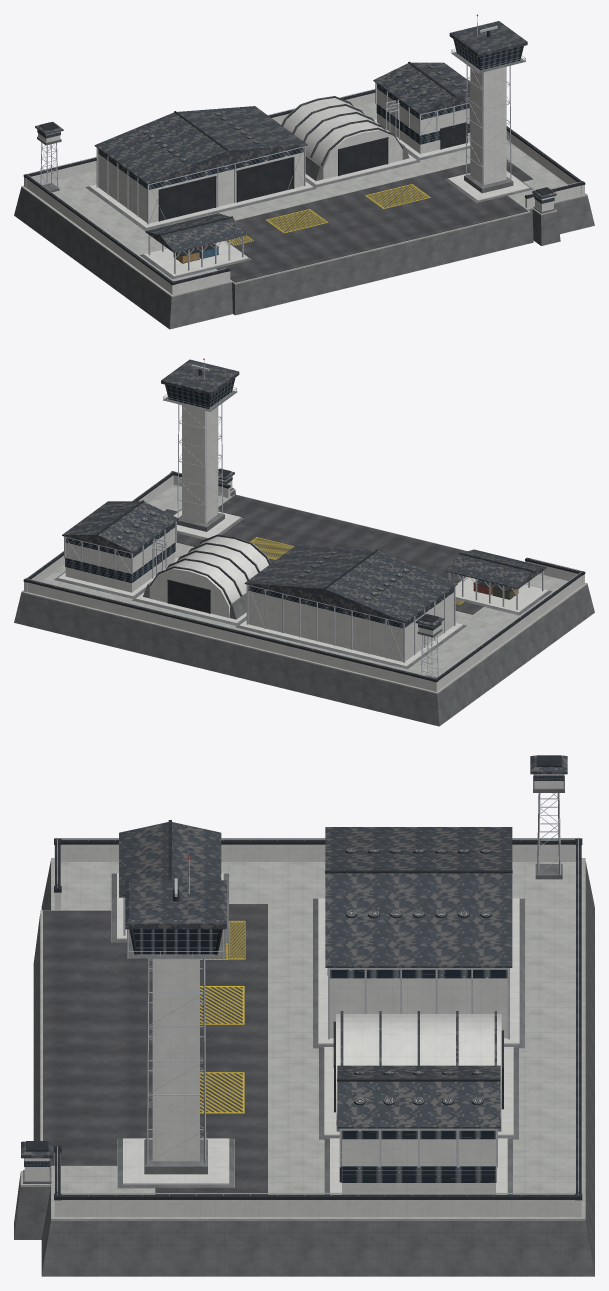
File: pilot_academy_lvl3.glb
3 renders of one model, top to bottom at view 1: azimuth 30°, elevation 25°; view 2: azimuth 150°, elevation 25°; view 3: azimuth 270°, elevation 25°, orthographic. The views are drawn at different scales.
Visible parts, largest first — view 1: PAC_L3_ConcLight, PAC_L3_ConcDark, PAC_L3_RoofCorr, PAC_L3_Asphalt, PAC_L3_ConcMid, PAC_L3_DoorCorr, PAC_L3_SteelTruss, PAC_L3_SteelDark, PAC_L3_WindowDark, PAC_L3_HatchZone, PAC_L3_RoofVent; view 2: PAC_L3_ConcLight, PAC_L3_ConcDark, PAC_L3_RoofCorr, PAC_L3_ConcMid, PAC_L3_Asphalt, PAC_L3_SteelTruss, PAC_L3_SteelDark, PAC_L3_WindowDark, PAC_L3_DoorCorr, PAC_L3_HatchZone; view 3: PAC_L3_ConcLight, PAC_L3_RoofCorr, PAC_L3_ConcMid, PAC_L3_ConcDark, PAC_L3_Asphalt, PAC_L3_SteelDark, PAC_L3_WindowDark, PAC_L3_SteelTruss, PAC_L3_HatchZone, PAC_L3_RoofVent.
Boxes of the visible parts, left/top/right/bottom form: PAC_L3_ConcLight: left=24, top=66, right=584, bottom=294; PAC_L3_ConcDark: left=14, top=52, right=594, bottom=329; PAC_L3_RoofCorr: left=35, top=21, right=556, bottom=252; PAC_L3_Asphalt: left=216, top=159, right=532, bottom=282; PAC_L3_ConcMid: left=21, top=102, right=587, bottom=297; PAC_L3_DoorCorr: left=160, top=124, right=465, bottom=220; PAC_L3_SteelTruss: left=26, top=16, right=582, bottom=281; PAC_L3_SteelDark: left=23, top=30, right=585, bottom=285; PAC_L3_WindowDark: left=37, top=40, right=554, bottom=203; PAC_L3_HatchZone: left=226, top=183, right=431, bottom=245; PAC_L3_RoofVent: left=143, top=65, right=466, bottom=160; PAC_L3_ConcLight: left=24, top=405, right=584, bottom=691; PAC_L3_ConcDark: left=14, top=390, right=594, bottom=726; PAC_L3_RoofCorr: left=62, top=359, right=546, bottom=627; PAC_L3_ConcMid: left=21, top=485, right=587, bottom=694; PAC_L3_Asphalt: left=164, top=494, right=483, bottom=614; PAC_L3_SteelTruss: left=26, top=360, right=582, bottom=678; PAC_L3_SteelDark: left=23, top=369, right=585, bottom=682; PAC_L3_WindowDark: left=65, top=379, right=453, bottom=630; PAC_L3_DoorCorr: left=169, top=582, right=208, bottom=613; PAC_L3_HatchZone: left=249, top=536, right=464, bottom=605; PAC_L3_ConcLight: left=24, top=774, right=581, bottom=1217; PAC_L3_RoofCorr: left=21, top=755, right=567, bottom=1158; PAC_L3_ConcMid: left=20, top=858, right=585, bottom=1220; PAC_L3_ConcDark: left=14, top=775, right=594, bottom=1276; PAC_L3_Asphalt: left=43, top=904, right=267, bottom=1194; PAC_L3_SteelDark: left=26, top=755, right=582, bottom=1200; PAC_L3_WindowDark: left=24, top=774, right=564, bottom=1182; PAC_L3_SteelTruss: left=57, top=793, right=578, bottom=1195; PAC_L3_HatchZone: left=200, top=920, right=245, bottom=1113; PAC_L3_RoofVent: left=346, top=849, right=491, bottom=1103.
Size of the model in its own units: 148 by 66 by 98.15.
Materials: 16 (16 with a texture image).
